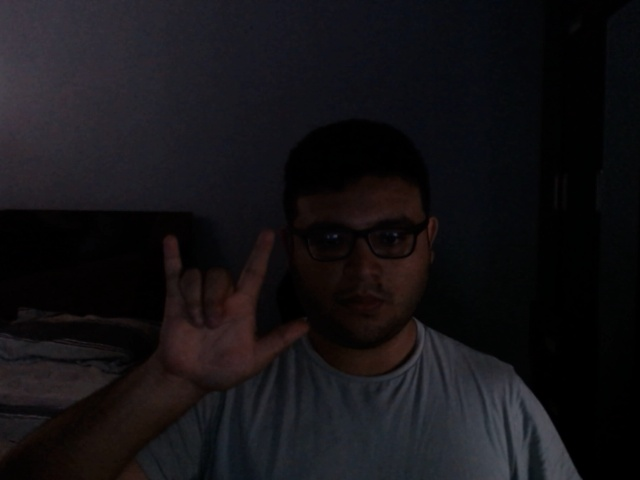I love you: (146, 220, 313, 397)
